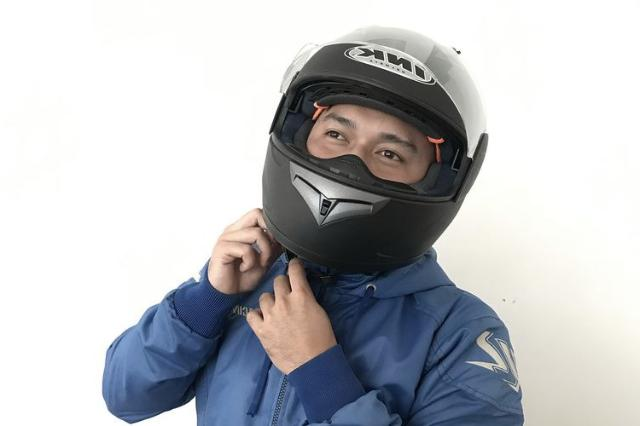helm: (261, 25, 493, 282)
